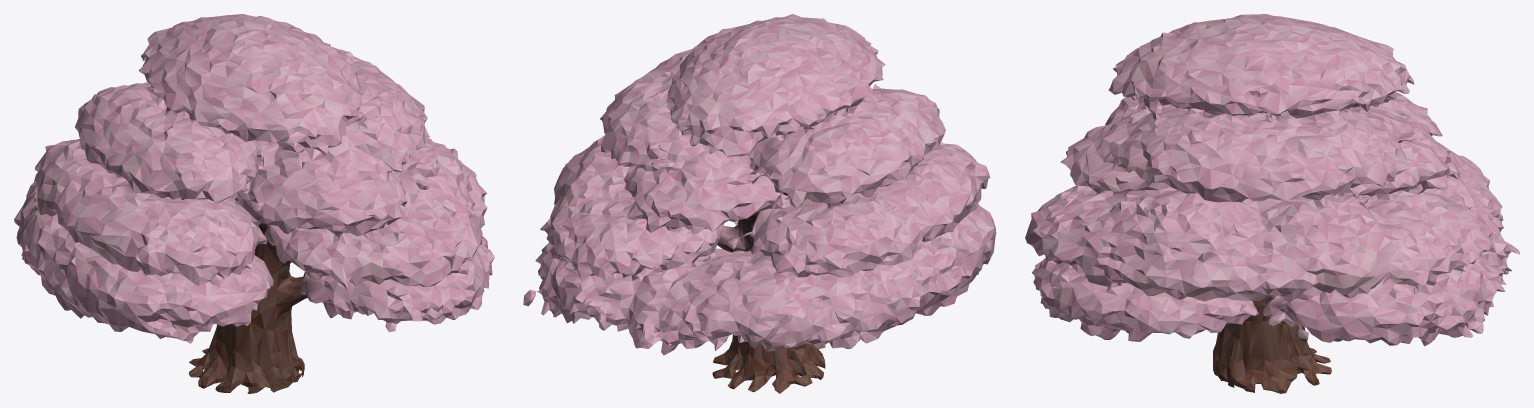
Rendered from cherry_tree.glb.
3 views of the same model, side by side, from view 1: azimuth 30°, elevation 25°; view 2: azimuth 150°, elevation 25°; view 3: azimuth 270°, elevation 25° (orthographic). The views are drawn at different scales.
Visible parts, largest first — view 1: world; view 2: world; view 3: world.
Boxes of the visible parts, bbox=[...] form: world: bbox=[14, 14, 494, 393]; world: bbox=[523, 14, 996, 393]; world: bbox=[1025, 14, 1519, 393].
Bounding box in the file's own units: 4.57 × 3.8 × 4.98.
